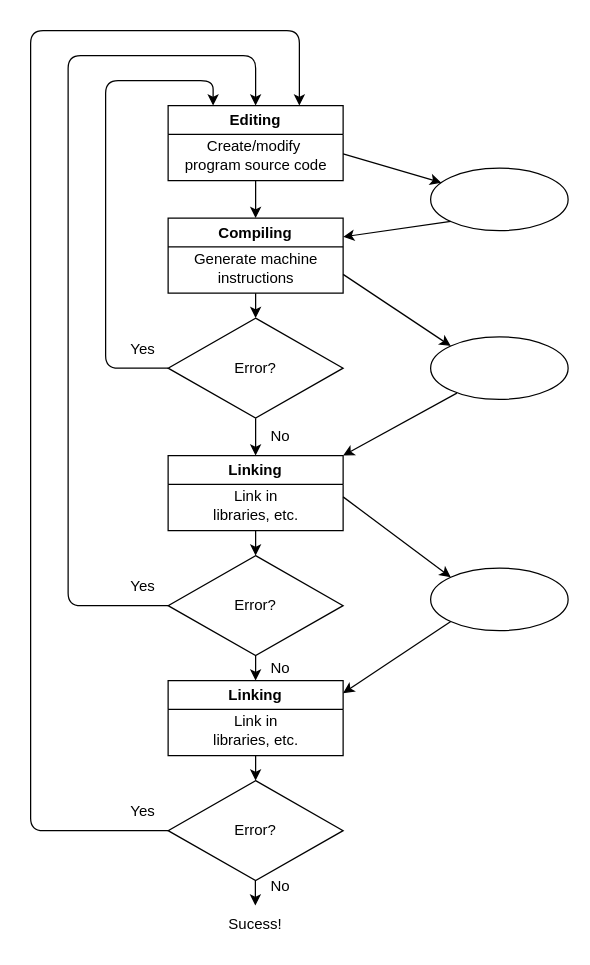
This 590x965 diagram has some shape labels left out. Each missing label, with the centre of its shape:
"Executable file (*.exe)" belongs at point (498, 599).
"Object file (*.obj)" belongs at point (498, 367).
"Source file (*.c)" belongs at point (498, 199).
